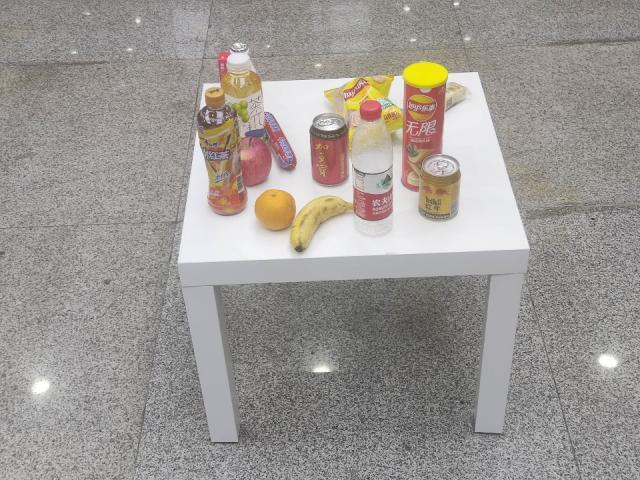Canned_drinks: (307, 112, 350, 188), (418, 154, 462, 221)
bottle: (345, 97, 398, 235)
cylinder: (398, 63, 449, 196)
